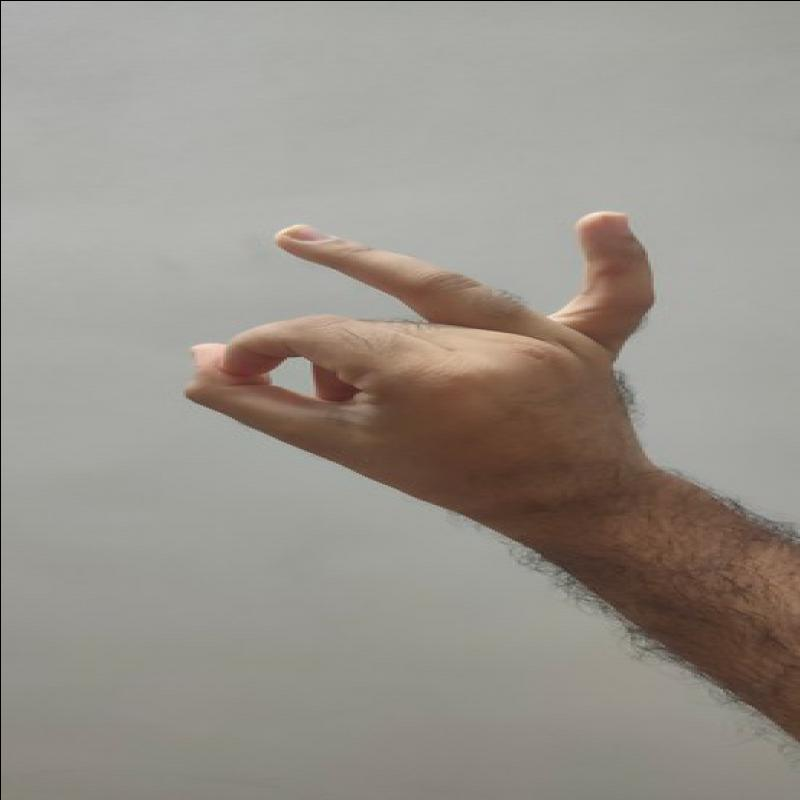Katakam: (165, 190, 681, 523)
